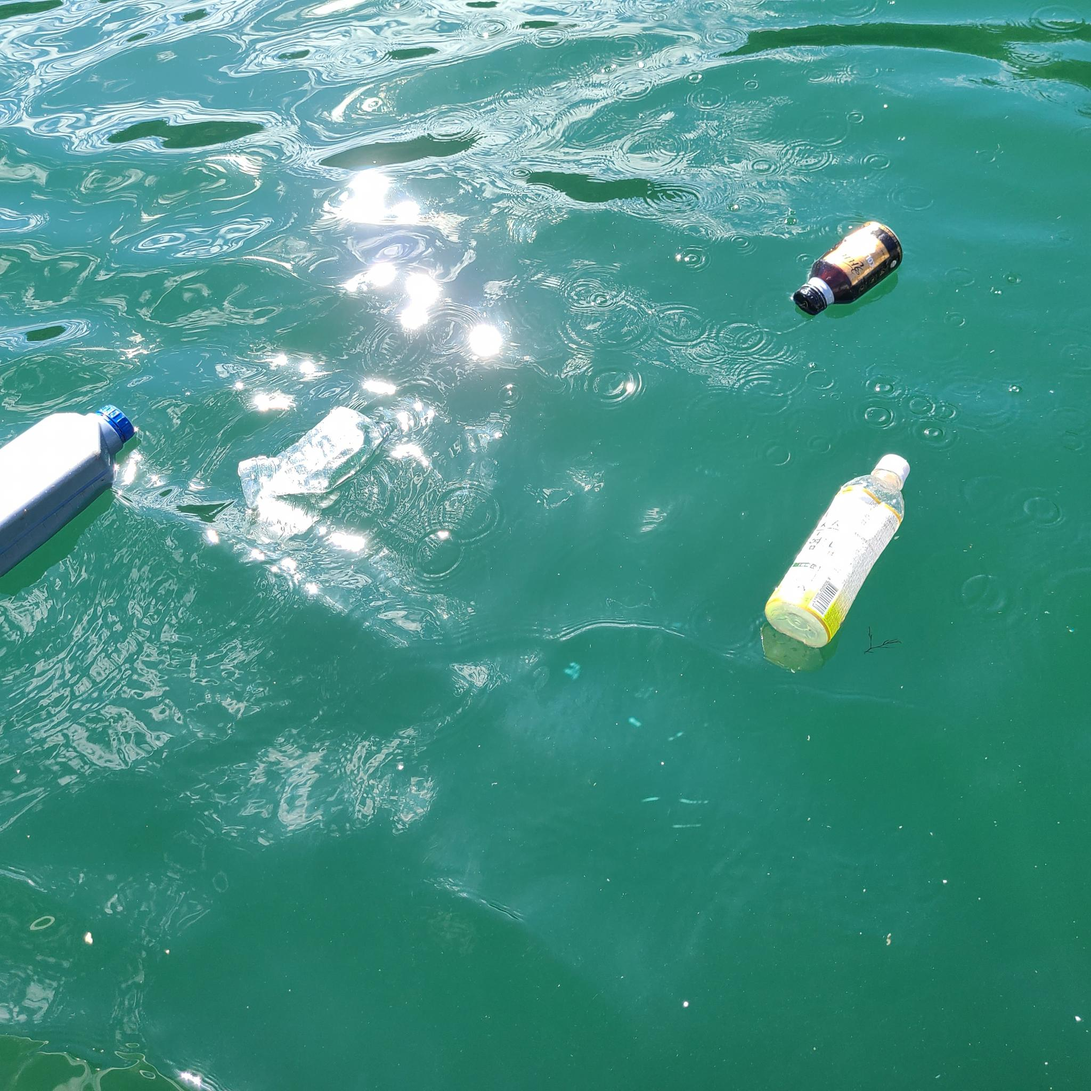sampah_terapung: (766, 454, 910, 648), (1, 405, 135, 580), (238, 406, 393, 510), (794, 222, 903, 316)
